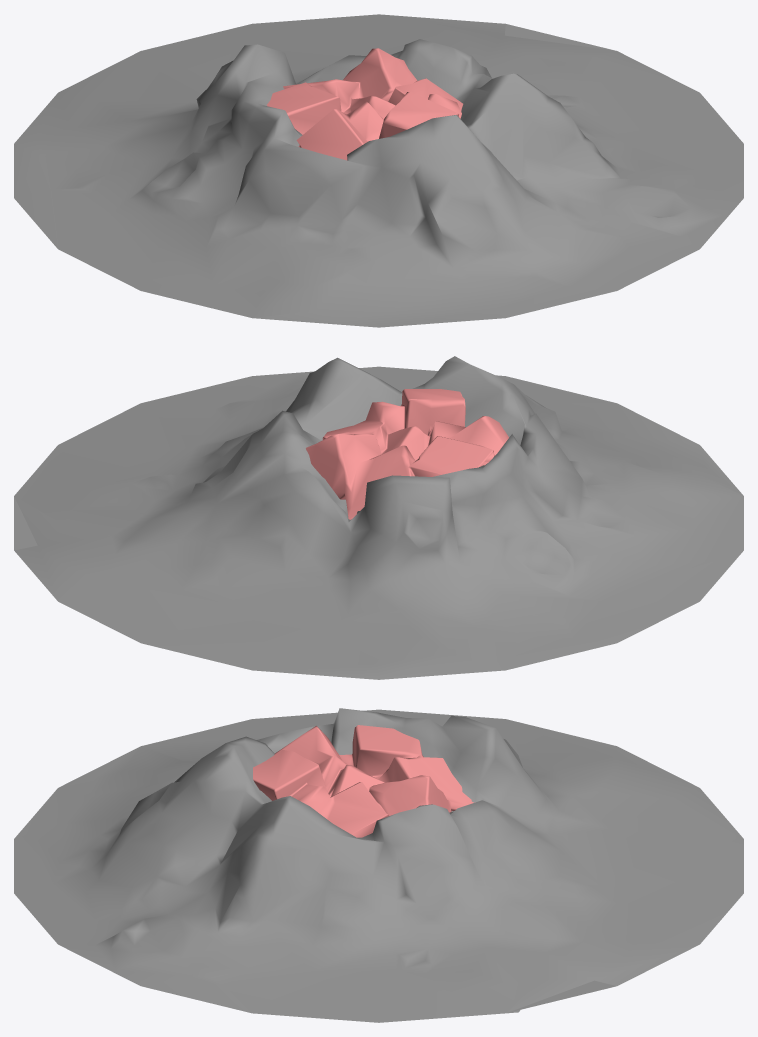
Rendered from SM_MetalDeposit_Full.gltf.
The picture shows the model from 3 angles, top to bottom: view 1: azimuth 30°, elevation 25°; view 2: azimuth 150°, elevation 25°; view 3: azimuth 270°, elevation 25°; orthographic projection.
Parts seen in each view (by area): view 1: SM_MetalDeposit_Full; view 2: SM_MetalDeposit_Full; view 3: SM_MetalDeposit_Full.
Part boxes in pixels (x1,y1,x2,y2): SM_MetalDeposit_Full: (14,14,743,327); SM_MetalDeposit_Full: (14,356,743,679); SM_MetalDeposit_Full: (14,708,743,1022).
Size of the model in its own units: 3.69 by 0.6477 by 3.63.
